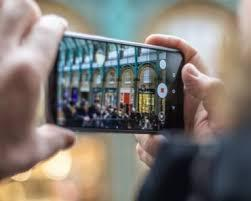Hand: (136, 29, 226, 173), (0, 1, 74, 176)
Smartphone: (61, 34, 183, 139)
